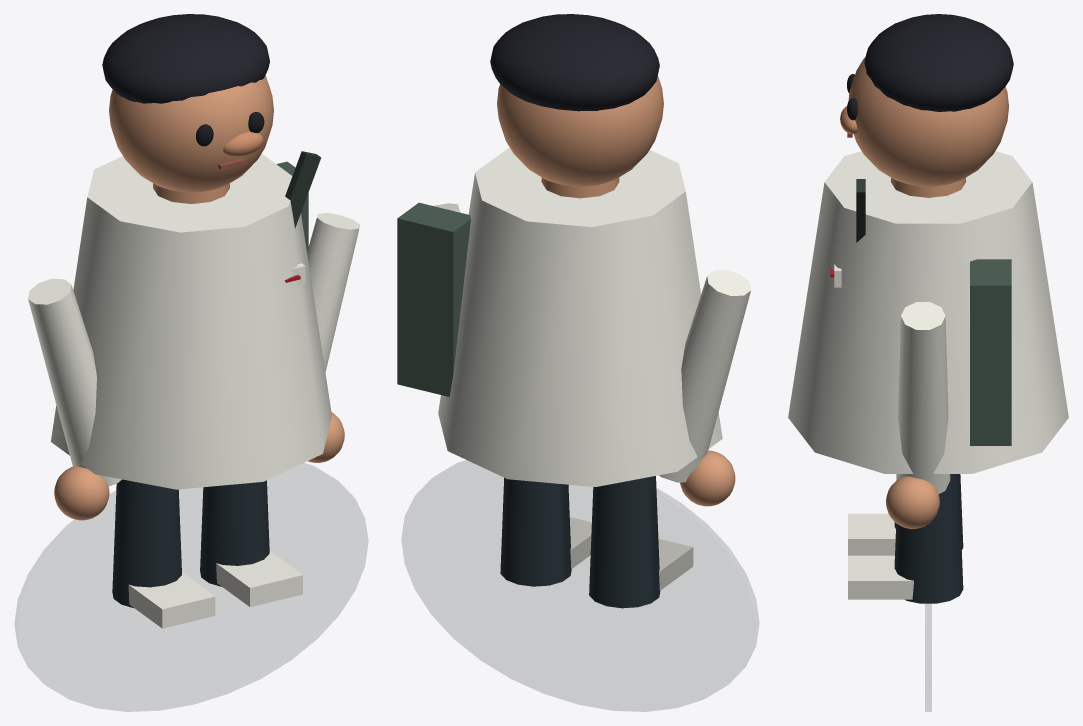
File: player_male_white.glb
The picture shows the model from 3 angles, left to right: view 1: azimuth 30°, elevation 25°; view 2: azimuth 150°, elevation 25°; view 3: azimuth 270°, elevation 25°; orthographic projection. The views are drawn at different scales.
Parts seen in each view (by area): view 1: torso, contact_shadow, head, hair_cap, arm_-0.255, leg_-0.095, leg_0.095, arm_0.255, shoe_-0.095, shoe_0.095, hand_-0.255, bag_strap (+3 smaller); view 2: torso, contact_shadow, hair_cap, shoulder_bag, head, leg_-0.095, arm_-0.255, leg_0.095, hand_-0.255, shoe_-0.095, shoe_0.095, neck; view 3: torso, hair_cap, head, arm_0.255, shoulder_bag, leg_0.095, shoe_0.095, hand_0.255, shoe_-0.095, contact_shadow, neck, bag_strap.
Boxes of the visible parts, x1,y1,x2,y2 form: torso: (51, 154, 331, 489); contact_shadow: (15, 463, 367, 711); head: (109, 75, 273, 192); hair_cap: (102, 14, 269, 103); arm_-0.255: (28, 279, 121, 486); leg_-0.095: (112, 479, 181, 607); leg_0.095: (200, 480, 269, 586); arm_0.255: (307, 213, 359, 372); shoe_-0.095: (128, 572, 215, 628); shoe_0.095: (216, 551, 302, 607); hand_-0.255: (54, 466, 109, 520); bag_strap: (285, 151, 321, 228); torso: (438, 148, 722, 486); contact_shadow: (402, 460, 758, 711); hair_cap: (490, 14, 659, 111); shoulder_bag: (397, 202, 470, 396); head: (497, 75, 663, 186); leg_-0.095: (589, 476, 660, 608); arm_-0.255: (659, 270, 750, 482); leg_0.095: (500, 477, 571, 586); hand_-0.255: (680, 450, 735, 506); shoe_-0.095: (658, 538, 693, 590); shoe_0.095: (569, 517, 591, 568); neck: (541, 177, 619, 198); torso: (788, 151, 1068, 473); hair_cap: (864, 14, 1013, 111); head: (848, 57, 1008, 186); arm_0.255: (896, 302, 950, 494); shoulder_bag: (970, 259, 1011, 445); leg_0.095: (894, 474, 963, 603); shoe_0.095: (848, 555, 913, 599); hand_0.255: (886, 476, 939, 528); shoe_-0.095: (848, 513, 895, 555); contact_shadow: (925, 522, 931, 711); neck: (890, 177, 966, 197); bag_strap: (856, 179, 865, 242).
Bounding box in the file's own units: 0.7904 × 1.45 × 0.5616.
